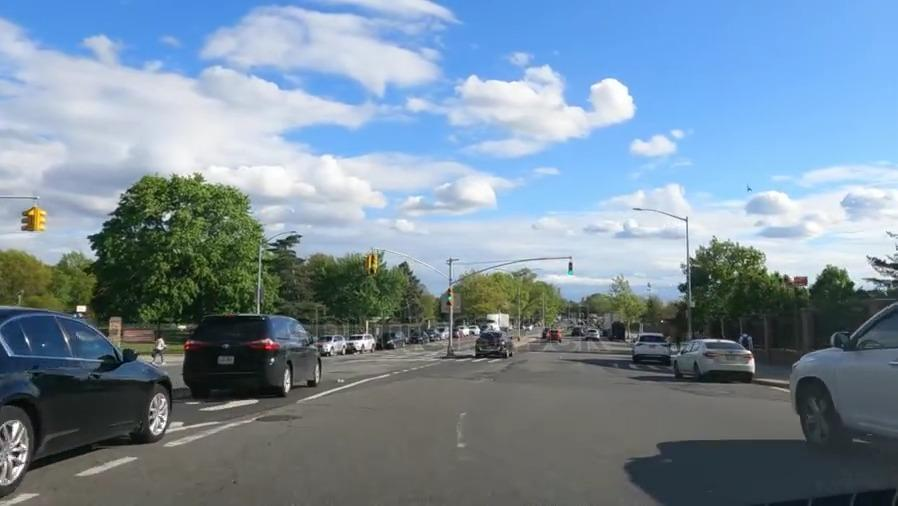car: (0, 302, 175, 476), (785, 321, 898, 454), (185, 307, 325, 399), (676, 337, 755, 385), (632, 334, 671, 364), (474, 333, 514, 359), (316, 331, 347, 361), (349, 331, 375, 355), (381, 329, 405, 351), (411, 330, 427, 346), (547, 330, 562, 343), (427, 328, 440, 343), (587, 328, 600, 342)
manhole: (249, 410, 303, 425)
person: (151, 331, 166, 364), (736, 327, 755, 351)
traffic light: (21, 202, 49, 238), (363, 250, 379, 277), (444, 286, 454, 311), (567, 255, 575, 278)
wheel: (0, 399, 32, 491), (140, 382, 172, 442)
